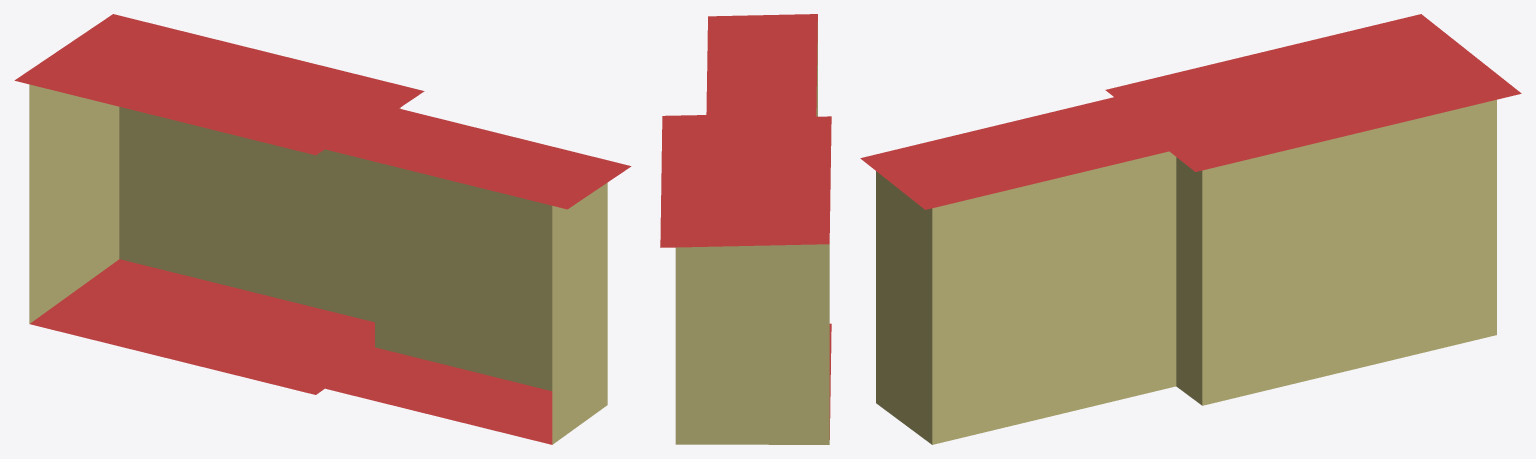
3 views of the same model, side by side, from view 1: azimuth 30°, elevation 25°; view 2: azimuth 150°, elevation 25°; view 3: azimuth 270°, elevation 25° (orthographic). The views are drawn at different scales.
Bounding box in the file's own units: 12.41 × 18.05 × 7.5.
